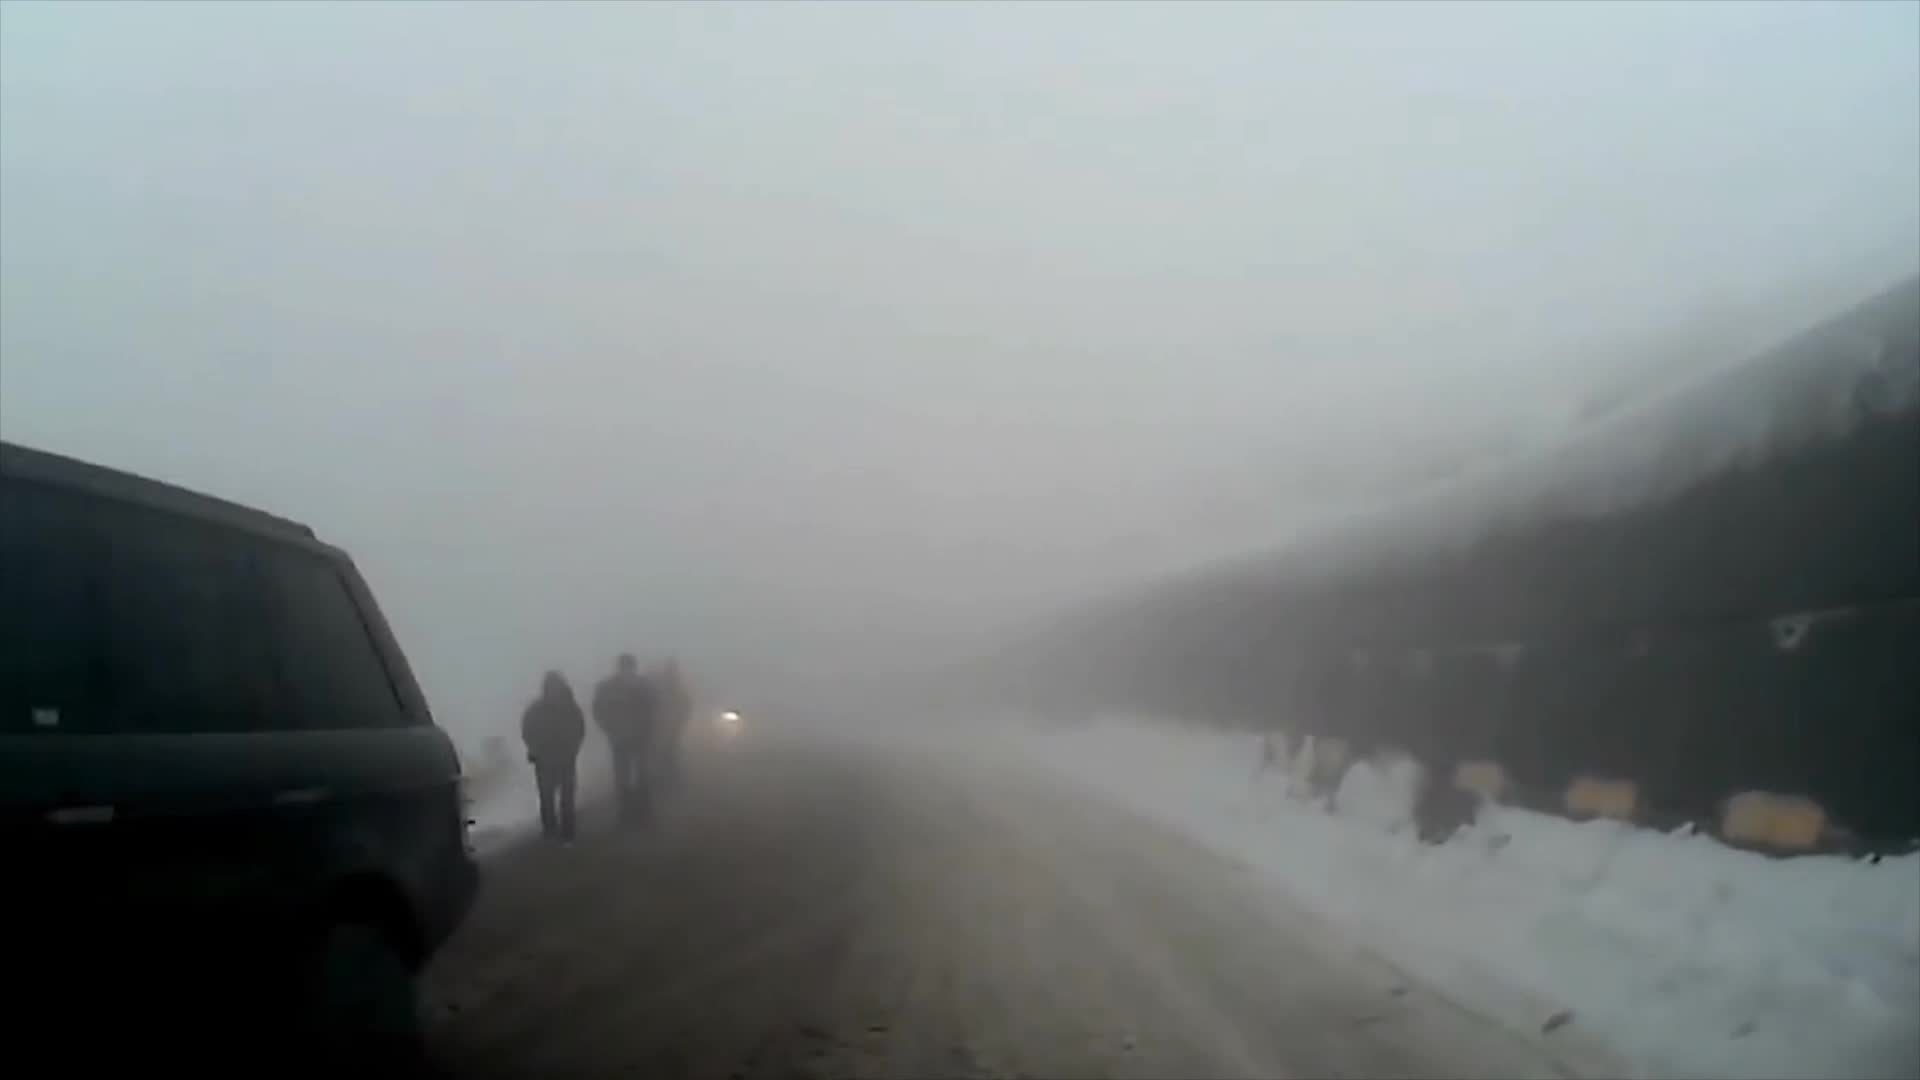pedestrian: (518, 671, 591, 847), (591, 652, 660, 827)
vehicle: (0, 417, 480, 1080)
